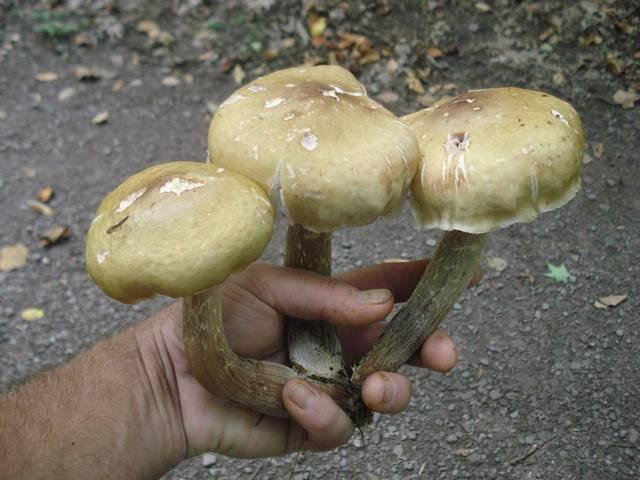Edible Mushroom: (70, 63, 421, 330), (348, 84, 585, 405)
